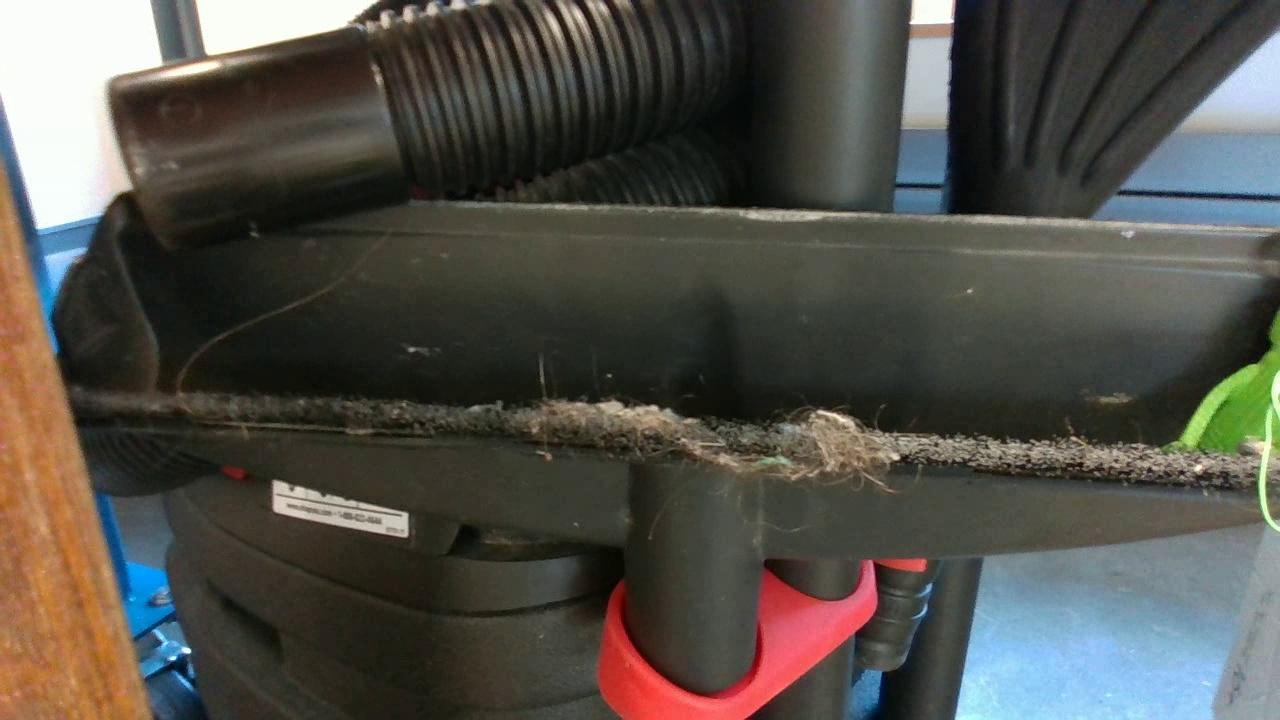grasshopper: (1153, 300, 1280, 446)
